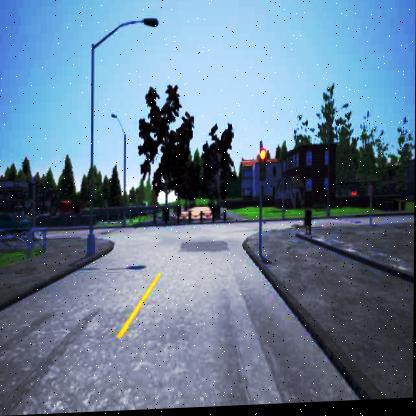vehicle: (0, 210, 34, 243)
